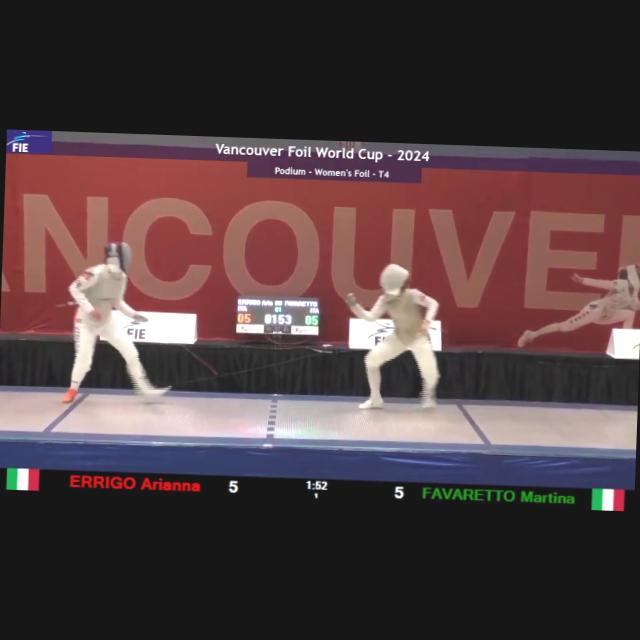blade: (136, 312, 222, 378)
